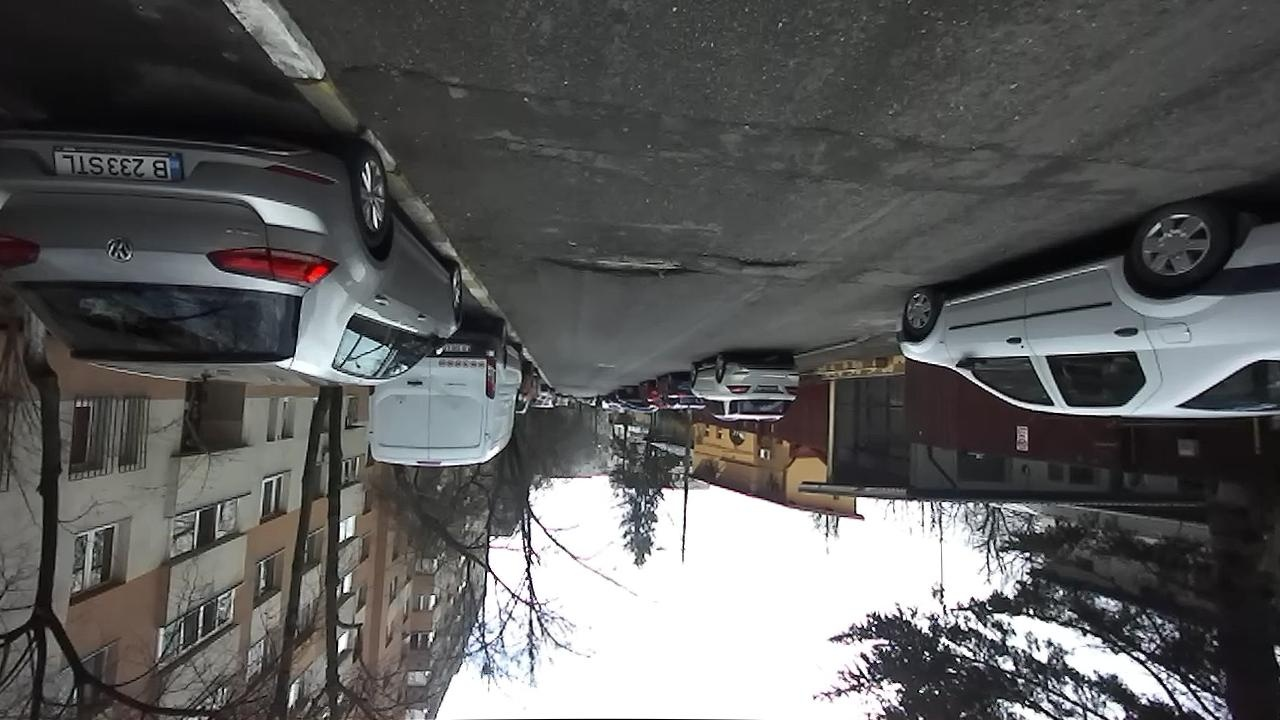pothole: (340, 58, 481, 98), (534, 249, 699, 283), (730, 254, 807, 269)
